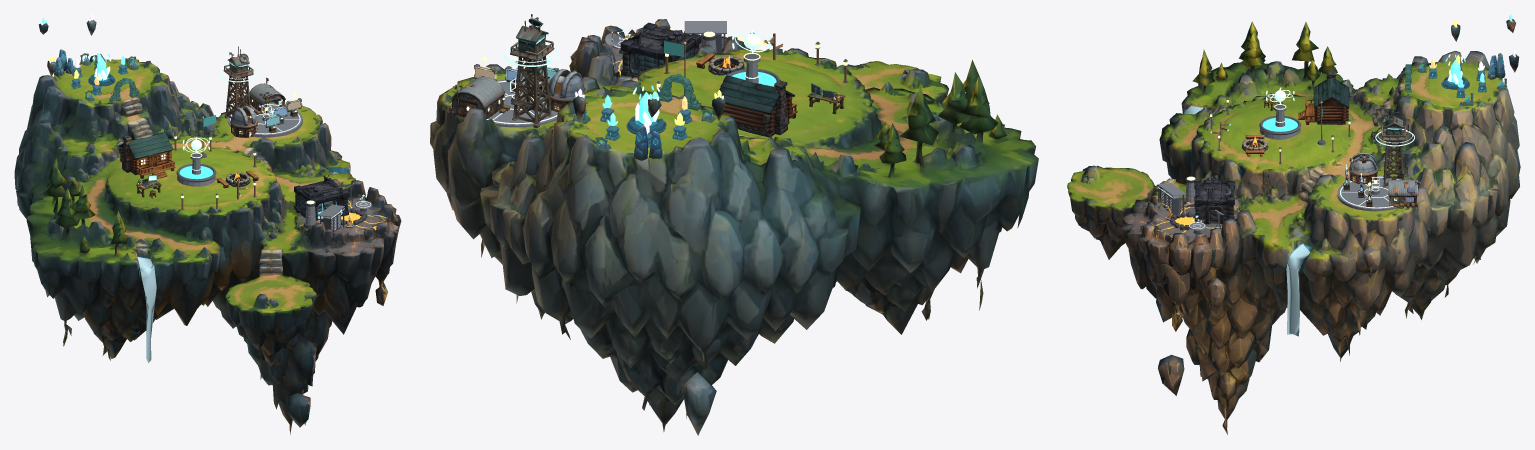
Rendered from island-new.glb.
The picture shows the model from 3 angles, left to right: view 1: azimuth 30°, elevation 25°; view 2: azimuth 150°, elevation 25°; view 3: azimuth 270°, elevation 25°; orthographic projection. The views are drawn at different scales.
Visible parts, largest first — view 1: SM_Island_Terrain, SM_BaseCamp_Cabin, SM_Lab_Building, SM_Outpost_Tower, SM_Waterfall_A, SM_Outpost_Plaza, SM_Outpost_Dome, SM_Outpost_Hangar, SM_Landmark_Pedestal, SM_FloatingRock_Under_02, SM_BaseCamp_Campfire; view 2: SM_Island_Terrain, SM_BaseCamp_Cabin, SM_Outpost_Tower, SM_Lab_Building, SM_Outpost_Hangar, SM_FloatingRock_Under_01, SM_Outpost_Plaza, SM_Outpost_Dome, SM_Crystal_Arch, SM_Crystal_StandingStones, SM_BaseCamp_Campfire, SM_Lab_RackCanopy (+1 smaller); view 3: SM_Island_Terrain, SM_BaseCamp_Cabin, SM_Lab_Building, SM_Outpost_Tower, SM_Waterfall_B, SM_Outpost_Plaza, SM_Outpost_Hangar, SM_FloatingRock_Under_02, SM_Outpost_Dome, SM_Landmark_Pedestal, SM_BaseCamp_Campfire.
Part boxes in pixels (x1,y1,x2,y2): SM_Island_Terrain: [14, 54, 401, 434]; SM_BaseCamp_Cabin: [118, 132, 175, 178]; SM_Lab_Building: [294, 175, 349, 221]; SM_Outpost_Tower: [223, 46, 253, 118]; SM_Waterfall_A: [137, 257, 156, 362]; SM_Outpost_Plaza: [227, 103, 302, 137]; SM_Outpost_Dome: [230, 105, 258, 137]; SM_Outpost_Hangar: [249, 77, 285, 114]; SM_Landmark_Pedestal: [176, 152, 216, 186]; SM_FloatingRock_Under_02: [286, 393, 310, 427]; SM_BaseCamp_Campfire: [216, 170, 258, 188]; SM_Island_Terrain: [430, 19, 1038, 431]; SM_BaseCamp_Cabin: [717, 75, 797, 137]; SM_Outpost_Tower: [510, 14, 554, 128]; SM_Lab_Building: [620, 22, 701, 77]; SM_Outpost_Hangar: [448, 76, 510, 119]; SM_FloatingRock_Under_01: [682, 372, 716, 435]; SM_Outpost_Plaza: [486, 79, 557, 127]; SM_Outpost_Dome: [546, 69, 586, 112]; SM_Crystal_Arch: [658, 73, 700, 110]; SM_Crystal_StandingStones: [634, 126, 662, 160]; SM_BaseCamp_Campfire: [696, 53, 758, 75]; SM_Lab_RackCanopy: [684, 21, 726, 50]; SM_Island_Terrain: [1067, 21, 1520, 434]; SM_BaseCamp_Cabin: [1298, 71, 1349, 124]; SM_Lab_Building: [1194, 176, 1234, 224]; SM_Outpost_Tower: [1381, 108, 1408, 187]; SM_Waterfall_B: [1286, 244, 1309, 336]; SM_Outpost_Plaza: [1337, 176, 1401, 211]; SM_Outpost_Hangar: [1388, 179, 1420, 208]; SM_FloatingRock_Under_02: [1158, 354, 1184, 395]; SM_Outpost_Dome: [1348, 152, 1378, 184]; SM_Landmark_Pedestal: [1259, 104, 1301, 139]; SM_BaseCamp_Campfire: [1242, 135, 1268, 156].
Size of the model in its own units: 50.72 by 47.65 by 53.9.
Materials: 52 (19 with a texture image).
